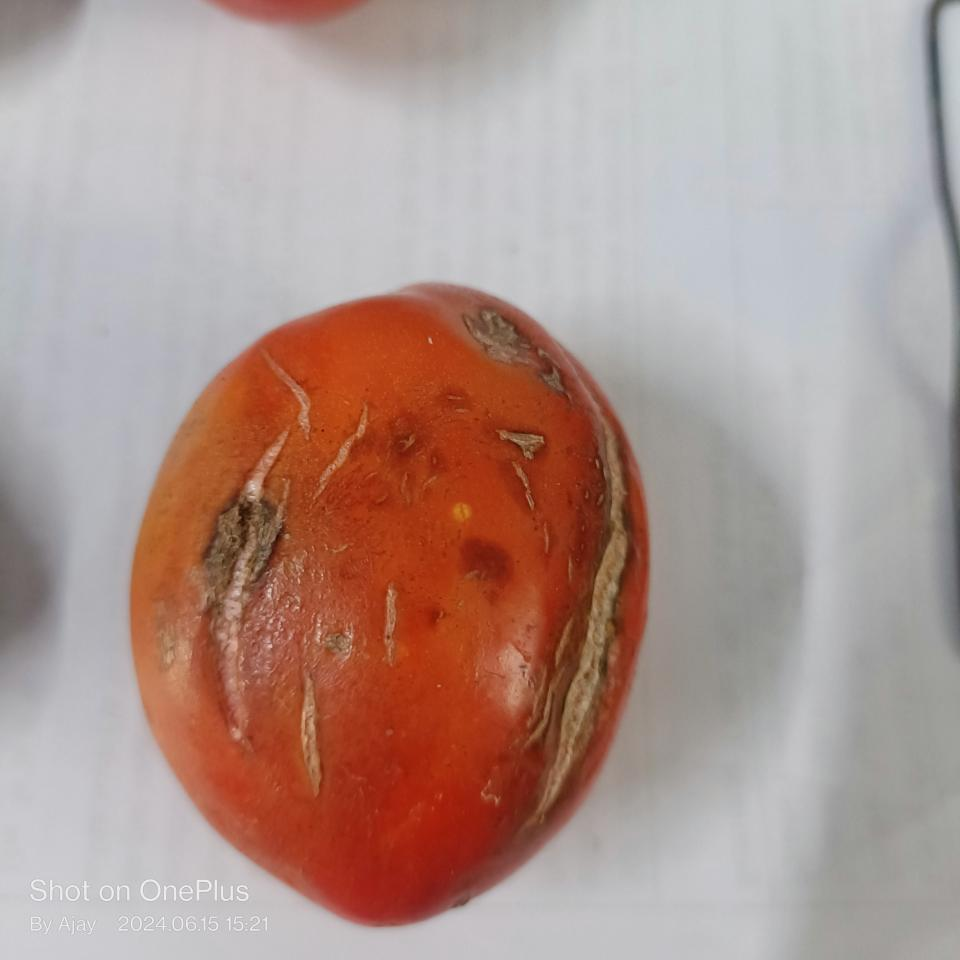Cracking: (470, 273, 641, 815), (168, 376, 339, 759)
